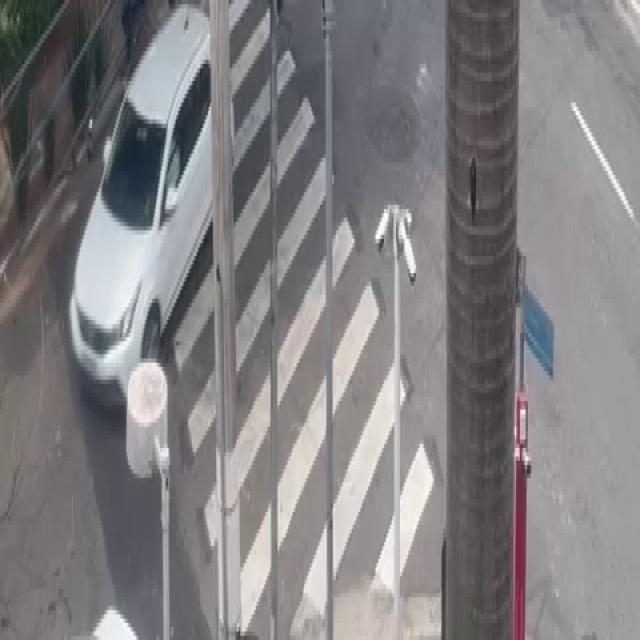car: (65, 11, 239, 425)
